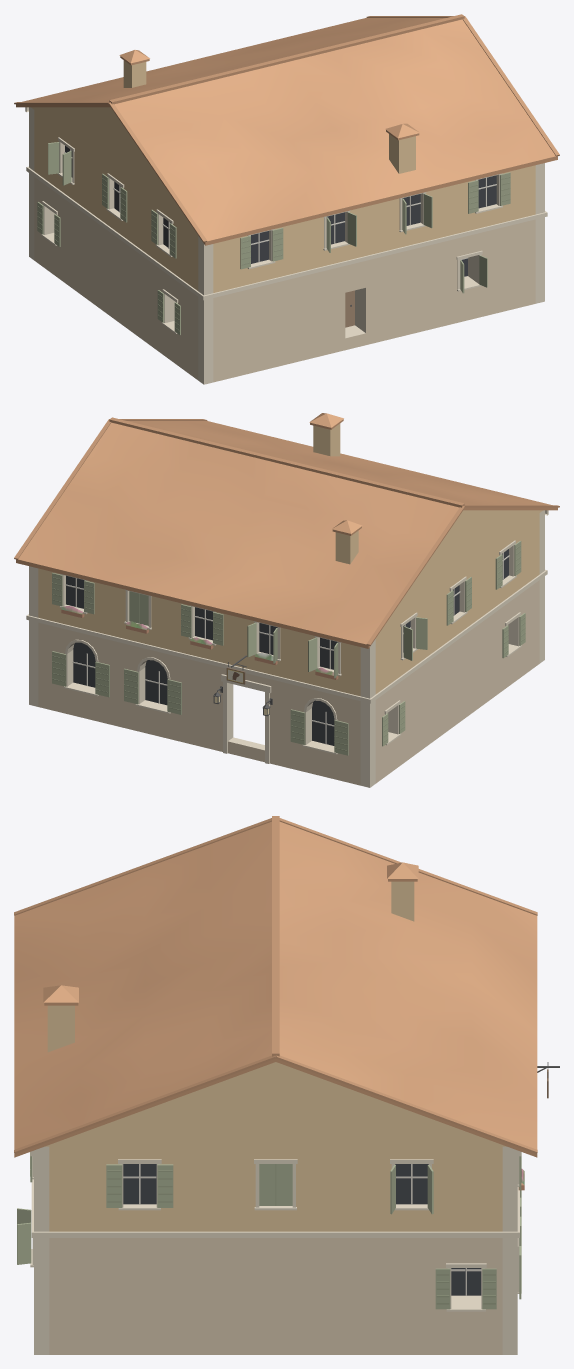
Rendered from SM_BM_BH_Osteria.glb.
The picture shows the model from 3 angles, top to bottom: view 1: azimuth 30°, elevation 25°; view 2: azimuth 150°, elevation 25°; view 3: azimuth 270°, elevation 25°; orthographic projection. The views are drawn at different scales.
Parts seen in each view (by area): view 1: SM_BM_BH_Osteria; view 2: SM_BM_BH_Osteria; view 3: SM_BM_BH_Osteria.
Boxes of the visible parts, <box> form: SM_BM_BH_Osteria: <box>14,14,559,384</box>; SM_BM_BH_Osteria: <box>14,413,559,787</box>; SM_BM_BH_Osteria: <box>14,816,559,1354</box>.
Bounding box in the file's own units: 19.24 × 11.17 × 18.06.
